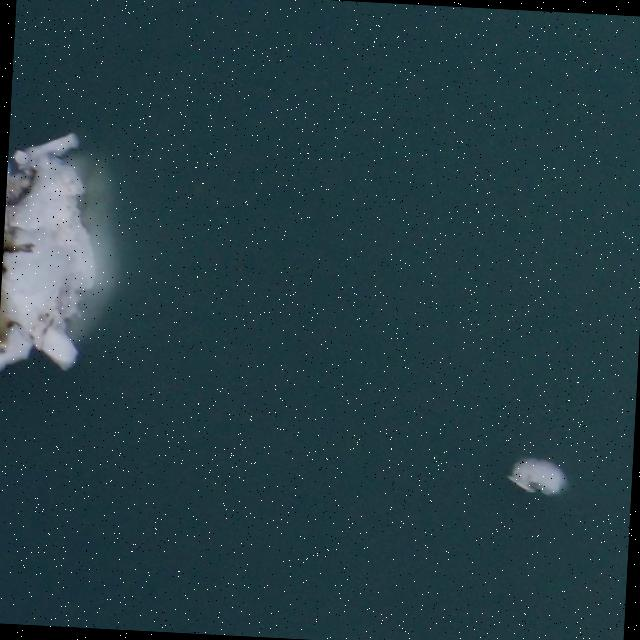seal: (0, 157, 43, 211), (0, 280, 21, 350), (3, 234, 32, 256)
